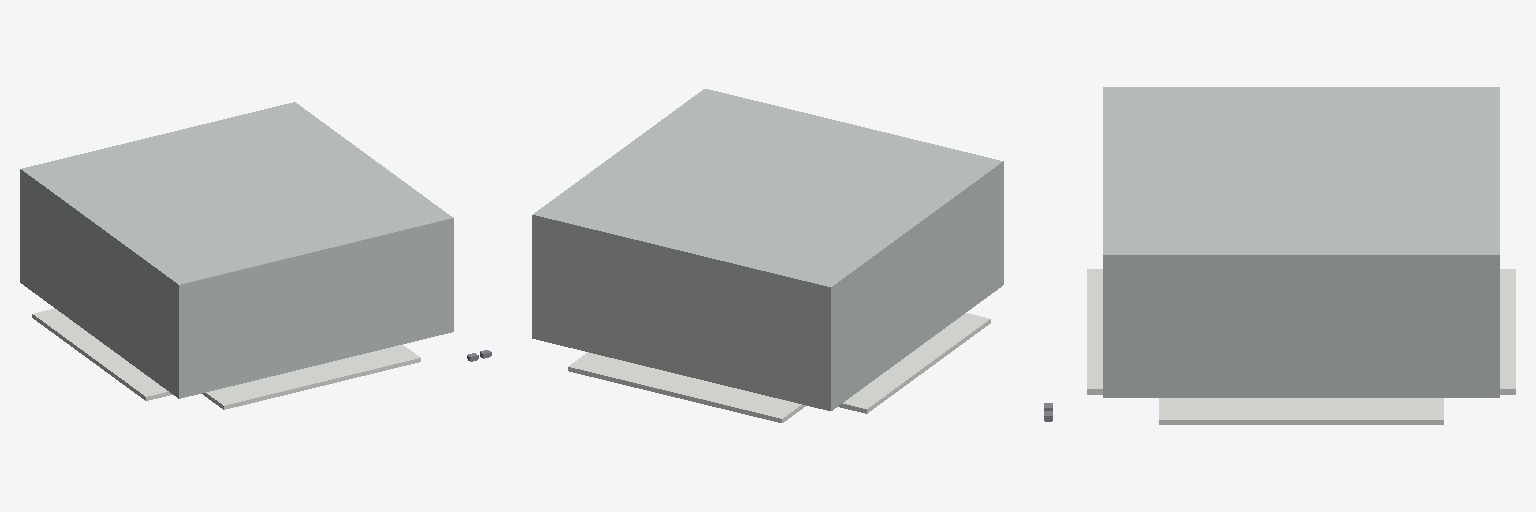
URDF robot description (ceiling_cassette_air_conditioner):
<robot name="ceiling_cassette_air_conditioner">
  <material name="panel_white">
    <color rgba="0.94 0.95 0.93 1" />
    </material>
  <material name="chassis_gray">
    <color rgba="0.8 0.82 0.82 1" />
    </material>
  <material name="grille_gray">
    <color rgba="0.72 0.75 0.76 1" />
    </material>
  <material name="flap_white">
    <color rgba="0.92 0.93 0.91 1" />
    </material>
  <material name="button_gray">
    <color rgba="0.58 0.6 0.62 1" />
    </material>
  <link name="cassette">
    <visual name="panel_shell">
      <geometry>
        <mesh filename="assets/meshes/cassette_panel_shell.obj" />
        </geometry>
      <material name="panel_white">
        <color rgba="0.94 0.95 0.93 1" />
        </material>
      </visual>
    <visual name="intake_grille">
      <geometry>
        <mesh filename="assets/meshes/cassette_intake_grille.obj" />
        </geometry>
      <material name="grille_gray">
        <color rgba="0.72 0.75 0.76 1" />
        </material>
      </visual>
    <visual name="upper_body">
      <origin xyz="0 0 0.163" rpy="0 0 0" />
      <geometry>
        <box size="0.68 0.68 0.27" />
        </geometry>
      <material name="chassis_gray">
        <color rgba="0.8 0.82 0.82 1" />
        </material>
      </visual>
    <collision name="panel_shell">
      <geometry>
        <mesh filename="assets/meshes/cassette_panel_shell.obj" />
        </geometry>
      </collision>
    <collision name="intake_grille">
      <geometry>
        <mesh filename="assets/meshes/cassette_intake_grille.obj" />
        </geometry>
      </collision>
    <collision name="upper_body">
      <origin xyz="0 0 0.163" rpy="0 0 0" />
      <geometry>
        <box size="0.68 0.68 0.27" />
        </geometry>
      </collision>
    </link>
  <link name="front_flap">
    <visual name="flap_panel">
      <origin xyz="0 0.0465 -0.005" rpy="0 0 0" />
      <geometry>
        <box size="0.488 0.093 0.01" />
        </geometry>
      <material name="flap_white">
        <color rgba="0.92 0.93 0.91 1" />
        </material>
      </visual>
    <collision name="flap_panel">
      <origin xyz="0 0.0465 -0.005" rpy="0 0 0" />
      <geometry>
        <box size="0.488 0.093 0.01" />
        </geometry>
      </collision>
    </link>
  <link name="rear_flap">
    <visual name="flap_panel">
      <origin xyz="0 -0.0465 -0.005" rpy="0 0 0" />
      <geometry>
        <box size="0.488 0.093 0.01" />
        </geometry>
      <material name="flap_white">
        <color rgba="0.92 0.93 0.91 1" />
        </material>
      </visual>
    <collision name="flap_panel">
      <origin xyz="0 -0.0465 -0.005" rpy="0 0 0" />
      <geometry>
        <box size="0.488 0.093 0.01" />
        </geometry>
      </collision>
    </link>
  <link name="left_flap">
    <visual name="flap_panel">
      <origin xyz="0.0465 0 -0.005" rpy="0 0 0" />
      <geometry>
        <box size="0.093 0.488 0.01" />
        </geometry>
      <material name="flap_white">
        <color rgba="0.92 0.93 0.91 1" />
        </material>
      </visual>
    <collision name="flap_panel">
      <origin xyz="0.0465 0 -0.005" rpy="0 0 0" />
      <geometry>
        <box size="0.093 0.488 0.01" />
        </geometry>
      </collision>
    </link>
  <link name="right_flap">
    <visual name="flap_panel">
      <origin xyz="-0.0465 0 -0.005" rpy="0 0 0" />
      <geometry>
        <box size="0.093 0.488 0.01" />
        </geometry>
      <material name="flap_white">
        <color rgba="0.92 0.93 0.91 1" />
        </material>
      </visual>
    <collision name="flap_panel">
      <origin xyz="-0.0465 0 -0.005" rpy="0 0 0" />
      <geometry>
        <box size="0.093 0.488 0.01" />
        </geometry>
      </collision>
    </link>
  <link name="front_button_0">
    <visual name="button_cap">
      <geometry>
        <box size="0.018 0.012 0.003" />
        </geometry>
      <material name="button_gray">
        <color rgba="0.58 0.6 0.62 1" />
        </material>
      </visual>
    <visual name="button_stem">
      <origin xyz="0 0 0.006" rpy="0 0 0" />
      <geometry>
        <box size="0.021 0.015 0.009" />
        </geometry>
      <material name="button_gray">
        <color rgba="0.58 0.6 0.62 1" />
        </material>
      </visual>
    <collision name="button_cap">
      <geometry>
        <box size="0.018 0.012 0.003" />
        </geometry>
      </collision>
    <collision name="button_stem">
      <origin xyz="0 0 0.006" rpy="0 0 0" />
      <geometry>
        <box size="0.021 0.015 0.009" />
        </geometry>
      </collision>
    </link>
  <link name="front_button_1">
    <visual name="button_cap">
      <geometry>
        <box size="0.018 0.012 0.003" />
        </geometry>
      <material name="button_gray">
        <color rgba="0.58 0.6 0.62 1" />
        </material>
      </visual>
    <visual name="button_stem">
      <origin xyz="0 0 0.006" rpy="0 0 0" />
      <geometry>
        <box size="0.021 0.015 0.009" />
        </geometry>
      <material name="button_gray">
        <color rgba="0.58 0.6 0.62 1" />
        </material>
      </visual>
    <collision name="button_cap">
      <geometry>
        <box size="0.018 0.012 0.003" />
        </geometry>
      </collision>
    <collision name="button_stem">
      <origin xyz="0 0 0.006" rpy="0 0 0" />
      <geometry>
        <box size="0.021 0.015 0.009" />
        </geometry>
      </collision>
    </link>
  <joint name="front_button_0_press" type="prismatic">
    <origin xyz="0.334 -0.432 0.0015" rpy="0 0 0" />
    <parent link="cassette" />
    <child link="front_button_0" />
    <axis xyz="0 0 1" />
    <limit effort="3" velocity="0.05" lower="0" upper="0.0035" />
    </joint>
  <joint name="front_button_1_press" type="prismatic">
    <origin xyz="0.366 -0.432 0.0015" rpy="0 0 0" />
    <parent link="cassette" />
    <child link="front_button_1" />
    <axis xyz="0 0 1" />
    <limit effort="3" velocity="0.05" lower="0" upper="0.0035" />
    </joint>
  <joint name="front_flap_hinge" type="revolute">
    <origin xyz="0 -0.366 0" rpy="0 0 0" />
    <parent link="cassette" />
    <child link="front_flap" />
    <axis xyz="-1 0 0" />
    <limit effort="8" velocity="1.5" lower="0" upper="1.1" />
    </joint>
  <joint name="rear_flap_hinge" type="revolute">
    <origin xyz="0 0.366 0" rpy="0 0 0" />
    <parent link="cassette" />
    <child link="rear_flap" />
    <axis xyz="1 0 0" />
    <limit effort="8" velocity="1.5" lower="0" upper="1.1" />
    </joint>
  <joint name="left_flap_hinge" type="revolute">
    <origin xyz="-0.366 0 0" rpy="0 0 0" />
    <parent link="cassette" />
    <child link="left_flap" />
    <axis xyz="0 1 0" />
    <limit effort="8" velocity="1.5" lower="0" upper="1.1" />
    </joint>
  <joint name="right_flap_hinge" type="revolute">
    <origin xyz="0.366 0 0" rpy="0 0 0" />
    <parent link="cassette" />
    <child link="right_flap" />
    <axis xyz="0 -1 0" />
    <limit effort="8" velocity="1.5" lower="0" upper="1.1" />
    </joint>
  </robot>

--- Render facts (derived) ---
The picture shows the robot from 3 angles, left to right: view 1: azimuth 30°, elevation 25°; view 2: azimuth 150°, elevation 25°; view 3: azimuth 270°, elevation 25°; orthographic projection.
Robot: ceiling_cassette_air_conditioner — 7 links, 6 joints (4 revolute, 2 prismatic); root link cassette; default pose: all joints at 0.
Links seen in each view (by area): view 1: cassette, front_flap, left_flap; view 2: cassette, rear_flap, left_flap; view 3: cassette, right_flap, front_flap, rear_flap.
Boxes of the visible links, x1,y1,x2,y2 form: cassette: (20,102,453,398); front_flap: (202,345,420,409); left_flap: (32,308,172,400); cassette: (532,89,1003,410); rear_flap: (568,352,805,422); left_flap: (838,313,990,413); cassette: (1103,87,1499,397); right_flap: (1159,398,1443,424); front_flap: (1087,269,1102,394); rear_flap: (1500,269,1515,394).
Size in the robot's own frame: 0.7425 by 0.8055 by 0.308 metres.
0 mesh visuals loaded from 2 distinct referenced files (none loaded); not drawn: 2 (reference not matched to a file when rendering).
